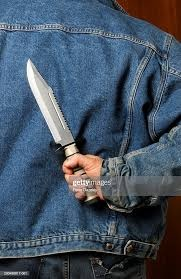knife: (26, 57, 100, 202)
